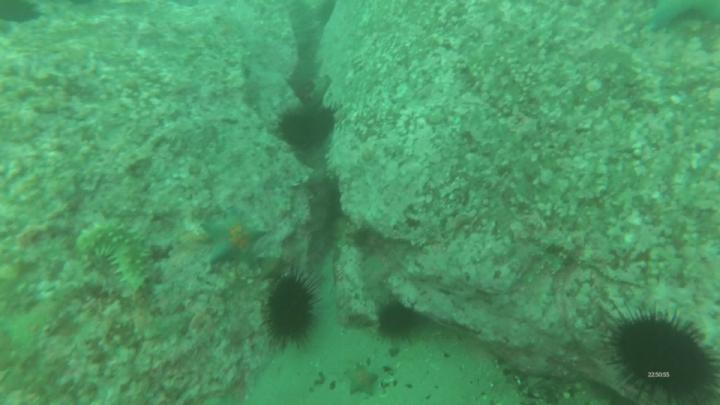echinus: (599, 298, 720, 405), (261, 266, 321, 350), (373, 296, 420, 344), (276, 107, 316, 153), (308, 105, 340, 146), (1, 1, 43, 26)
holothurian: (76, 219, 160, 302)
starfish: (200, 205, 271, 275), (641, 1, 720, 36), (344, 364, 381, 399)
